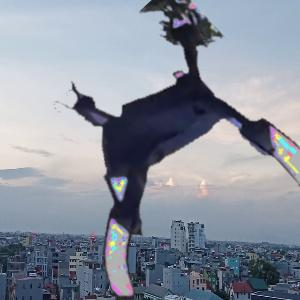drone: (36, 34, 297, 295)
